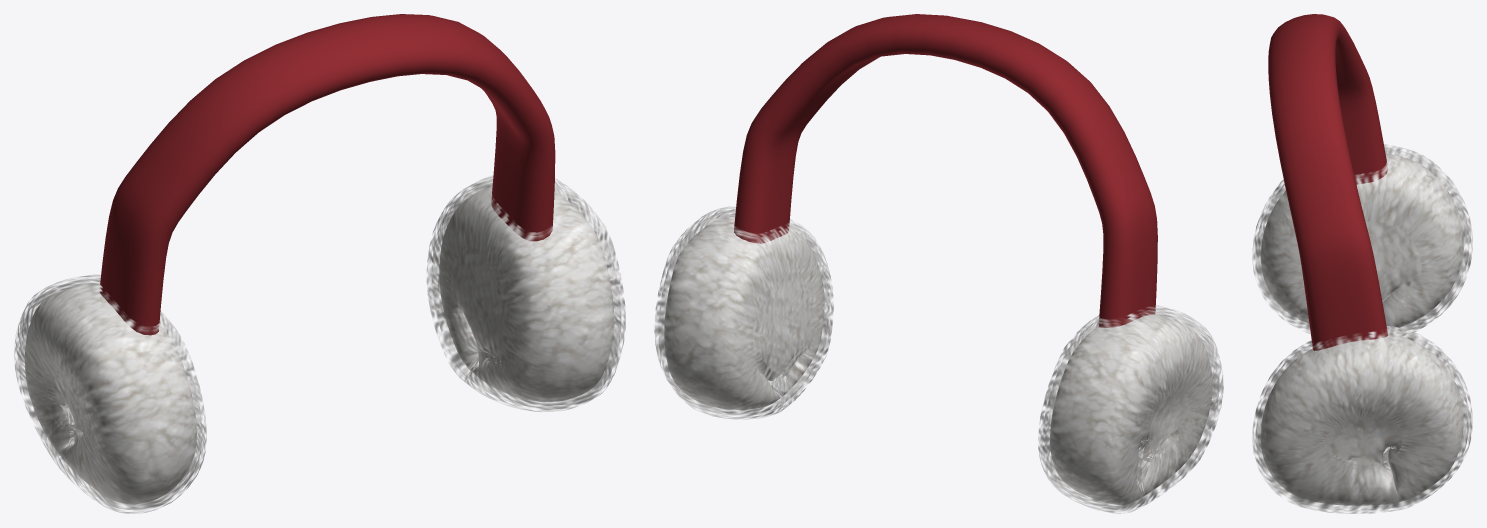
File: xmas_earmuffs_AR.glb
3 views of the same model, side by side, from view 1: azimuth 30°, elevation 25°; view 2: azimuth 150°, elevation 25°; view 3: azimuth 270°, elevation 25° (orthographic). The views are drawn at different scales.
Parts seen in each view (by area): view 1: Xmas_Earmuffs_AR; view 2: Xmas_Earmuffs_AR; view 3: Xmas_Earmuffs_AR.
Part boxes in pixels (box(x1,y1,x2,y2)): Xmas_Earmuffs_AR: box(14, 14, 625, 513); Xmas_Earmuffs_AR: box(654, 14, 1223, 513); Xmas_Earmuffs_AR: box(1252, 14, 1472, 513).
Bounding box in the file's own units: 0.21 × 0.1658 × 0.0866.
2 materials, 1 textured.
